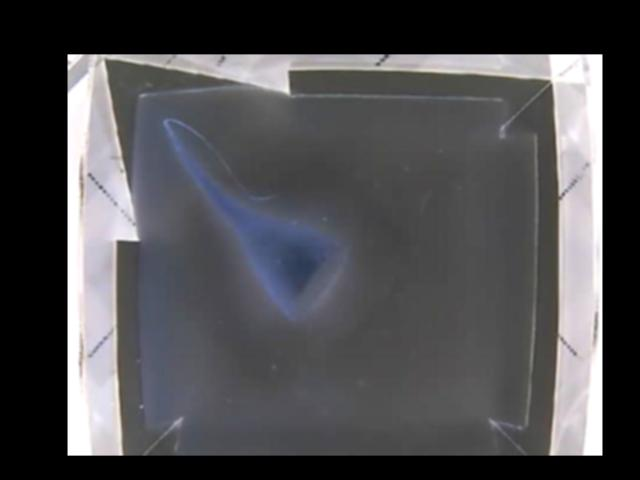Mooli: (233, 206, 350, 329)
